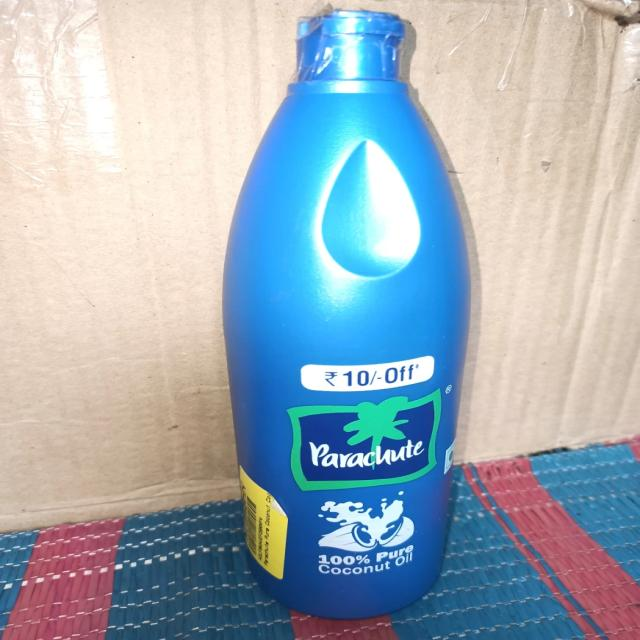parachute_oil: (226, 8, 464, 620)
